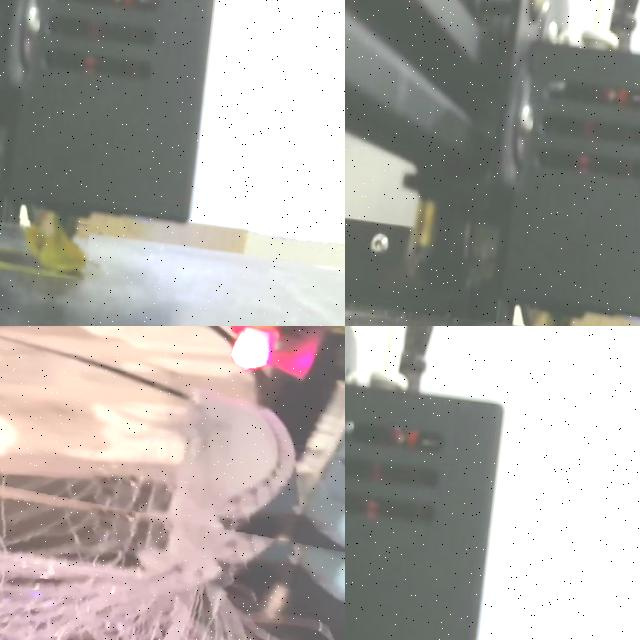spaghetti: (0, 434, 345, 640), (11, 210, 90, 280)
